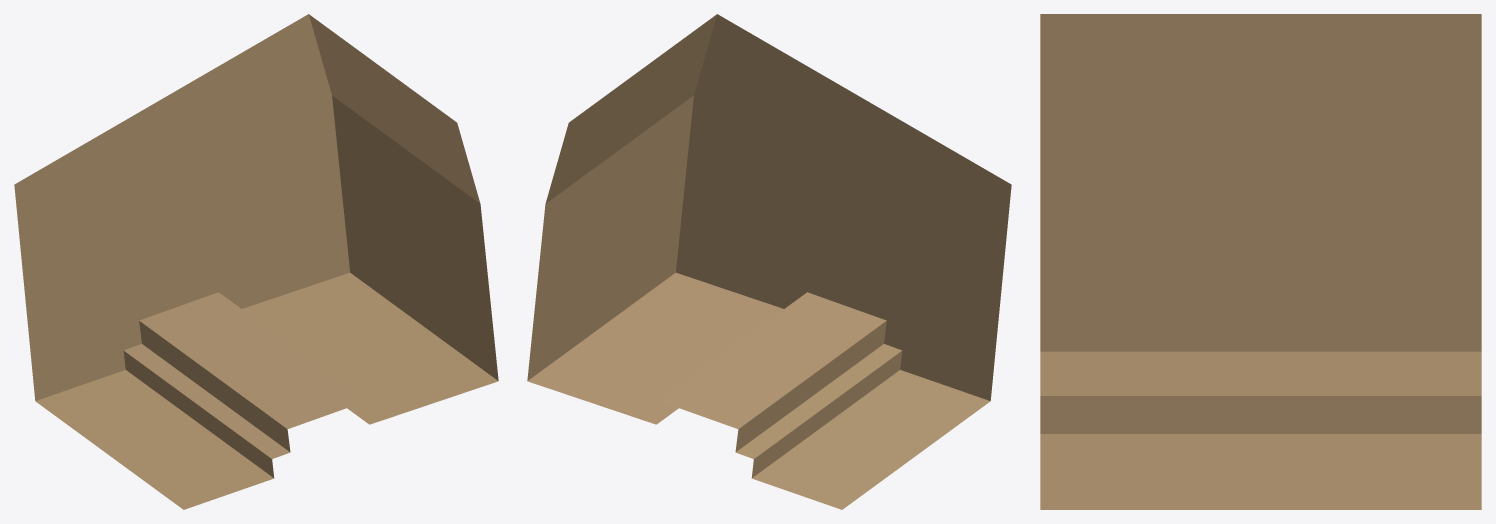
3 views of the same model, side by side, from view 1: azimuth 30°, elevation 25°; view 2: azimuth 150°, elevation 25°; view 3: azimuth 270°, elevation 25° (orthographic). The views are drawn at different scales.
Parts seen in each view (by area): view 1: 0_0_3_2_1_0_0_1_3; view 2: 0_0_3_2_1_0_0_1_3; view 3: 0_0_3_2_1_0_0_1_3.
Part boxes in pixels (x1=…): 0_0_3_2_1_0_0_1_3: x1=14, y1=14, x2=498, y2=509; 0_0_3_2_1_0_0_1_3: x1=527, y1=14, x2=1011, y2=509; 0_0_3_2_1_0_0_1_3: x1=1040, y1=14, x2=1481, y2=509.
Size of the model in its own units: 35.25 by 32.15 by 27.
